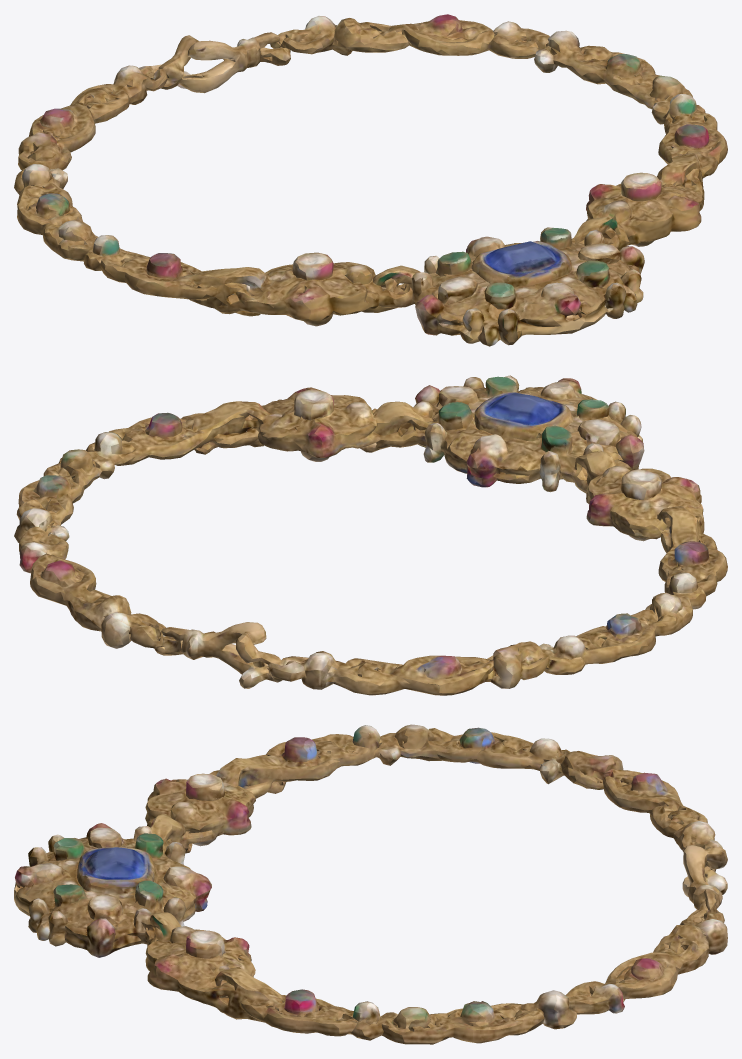
The model's file is heirloom.glb.
The picture shows the model from 3 angles, top to bottom: view 1: azimuth 30°, elevation 25°; view 2: azimuth 150°, elevation 25°; view 3: azimuth 270°, elevation 25°; orthographic projection.
Visible parts, largest first — view 1: geometry_0; view 2: geometry_0; view 3: geometry_0.
Part boxes in pixels (x1,y1,x2,y2): geometry_0: (14, 14, 727, 346); geometry_0: (14, 375, 727, 695); geometry_0: (14, 724, 727, 1044).
Size of the model in its own units: 0.42 by 0.0451 by 0.4196.
1 material, 1 textured.
